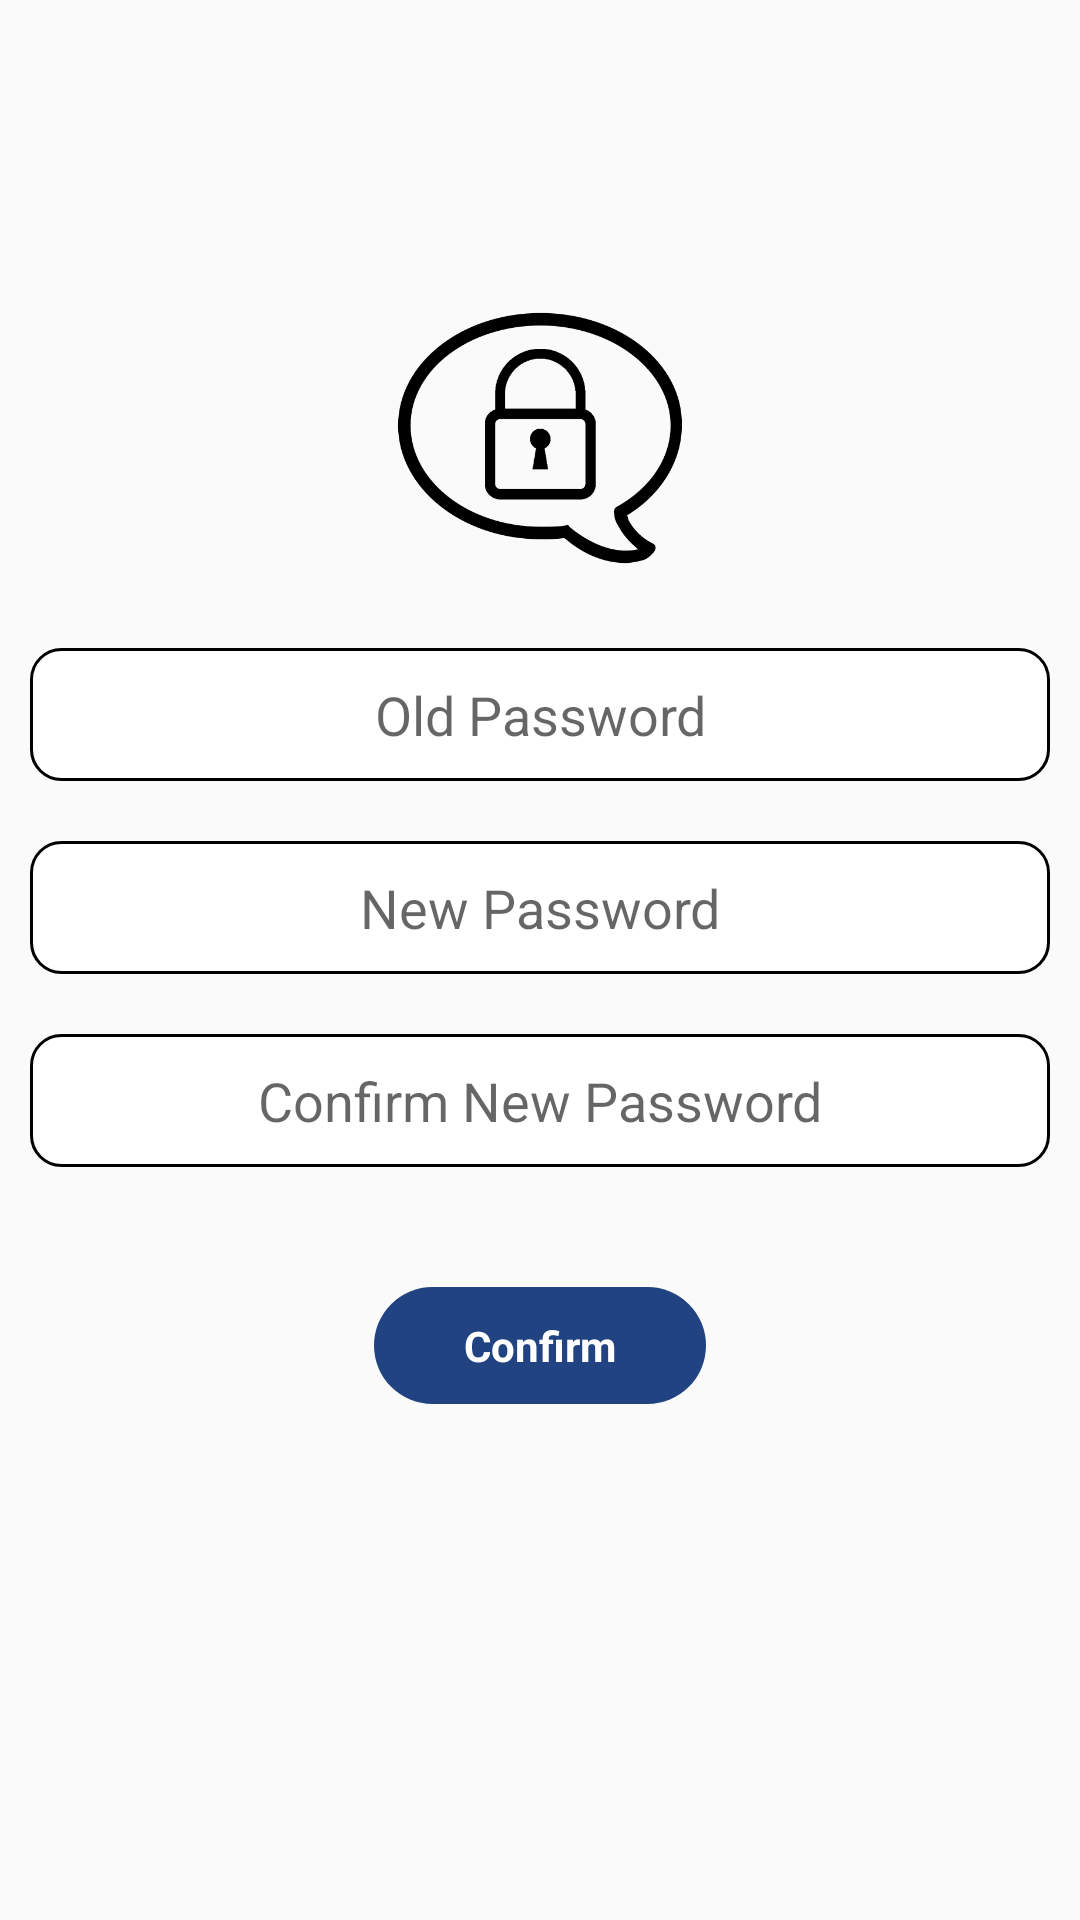

Point at icon controls on the screen. Image size 1080w x 1920h, points as (x,y).
password lock: (540,438)
